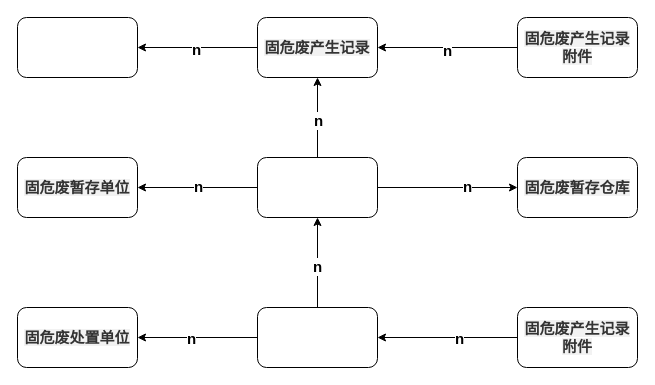
Image size: 655x385. Some labels were removed from this diagram. Each missing label, with the centre of its shape:
"园区企业表" belongs at pixel 77 47.
"固危废处置记录" belongs at pixel 317 337.
"固危废转存记录" belongs at pixel 317 187.
